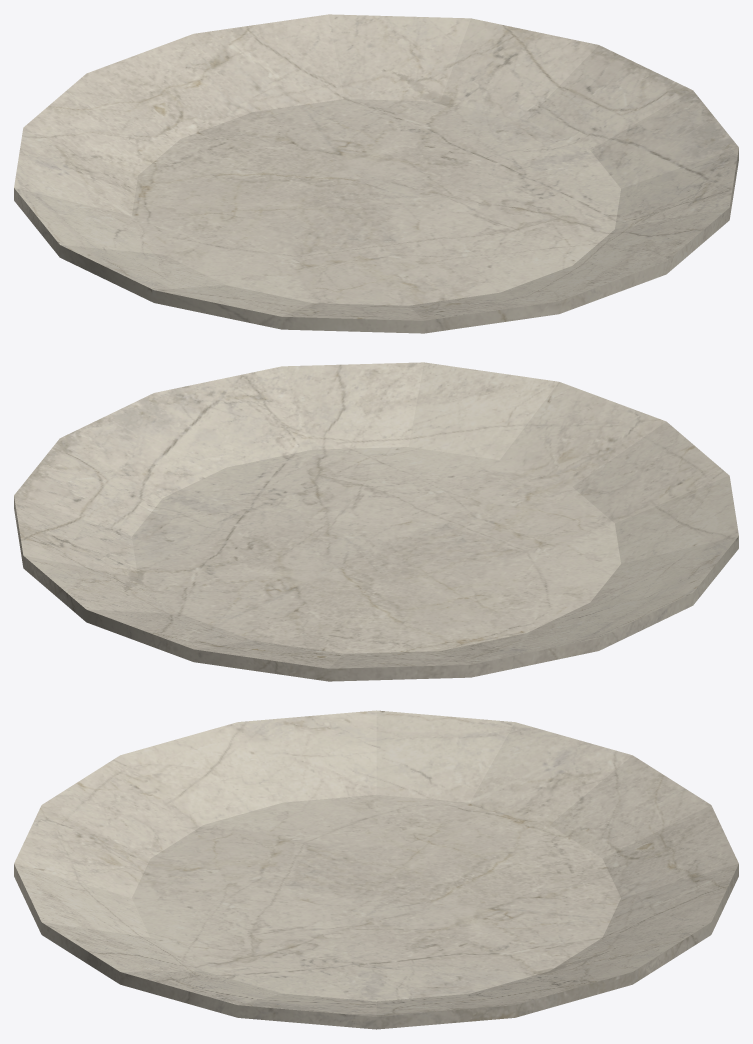
Rendered from plate.fbx.
The picture shows the model from 3 angles, top to bottom: view 1: azimuth 30°, elevation 25°; view 2: azimuth 150°, elevation 25°; view 3: azimuth 270°, elevation 25°; orthographic projection.
Parts seen in each view (by area): view 1: pCylinder4; view 2: pCylinder4; view 3: pCylinder4.
Part boxes in pixels (x1,y1,x2,y2): pCylinder4: (14,14,738,333); pCylinder4: (14,362,738,681); pCylinder4: (14,710,738,1029).
Bounding box in the file's own units: 0.3233 × 0.0294 × 0.3233.
